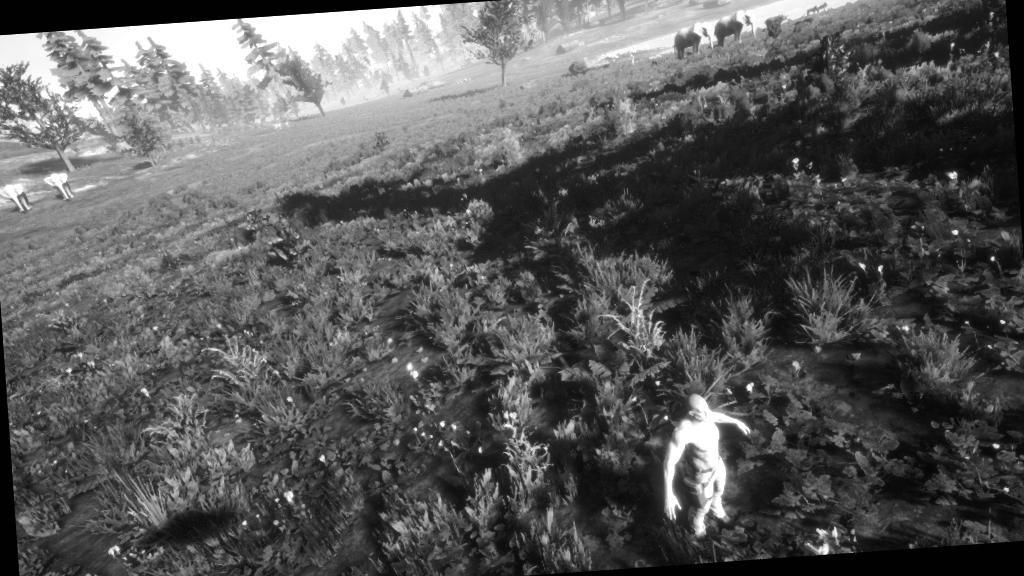elephant: (709, 0, 765, 52), (36, 162, 86, 212), (664, 20, 718, 62), (0, 173, 38, 220)
human: (622, 356, 772, 555)
